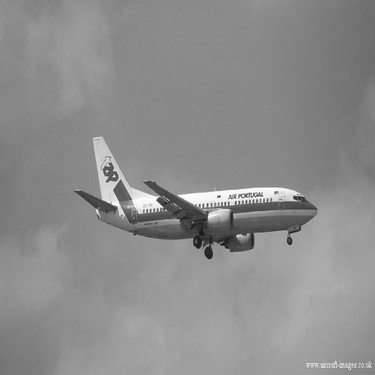airplane: (17, 114, 327, 265)
